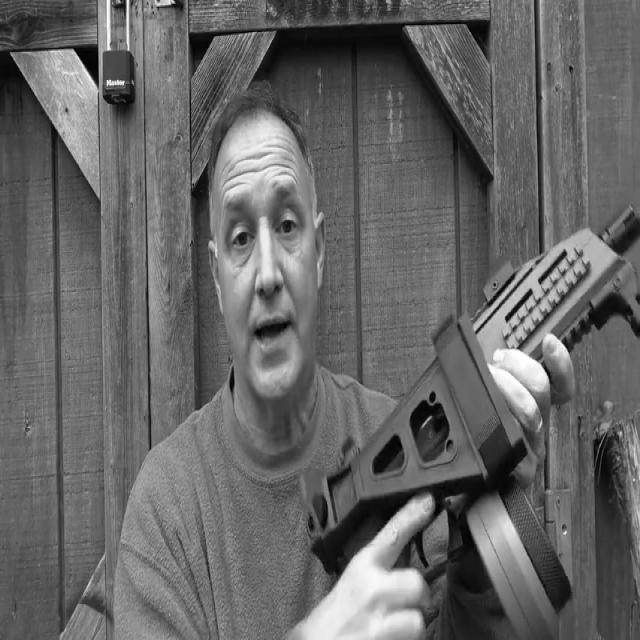Sub-machine-gun: (351, 171, 632, 629)
